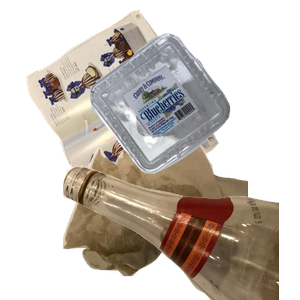glass: (60, 120, 300, 300)
paper: (24, 10, 235, 190)
plastic: (88, 31, 300, 198)
trash: (60, 142, 300, 300)
